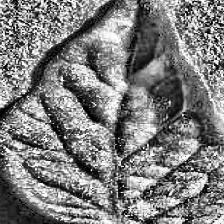leaf mold: (8, 0, 224, 221)
